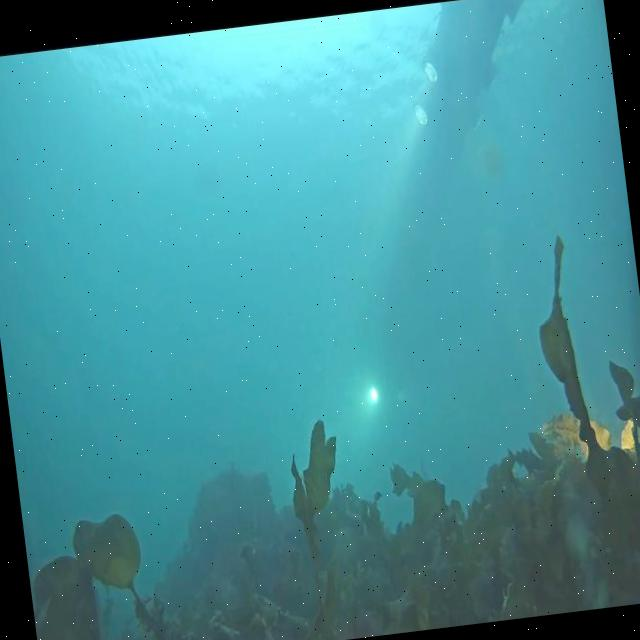fish: (504, 442, 538, 472)
